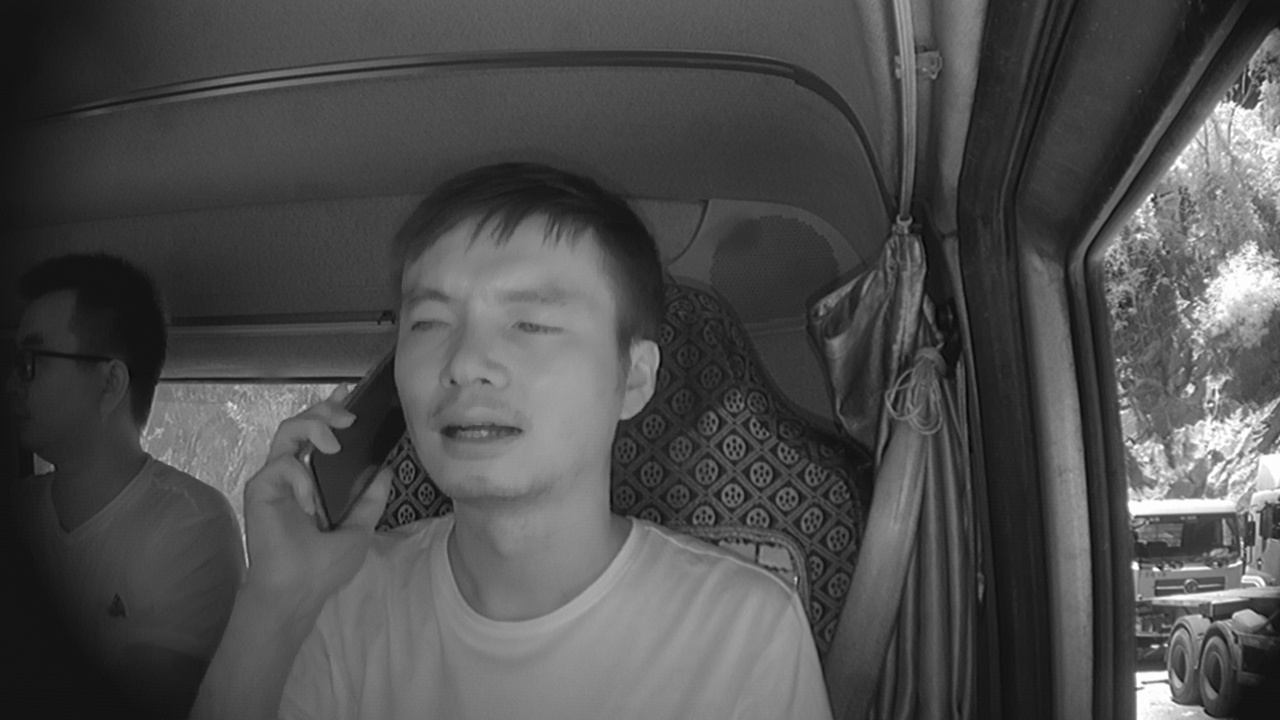hand: (238, 383, 394, 592)
